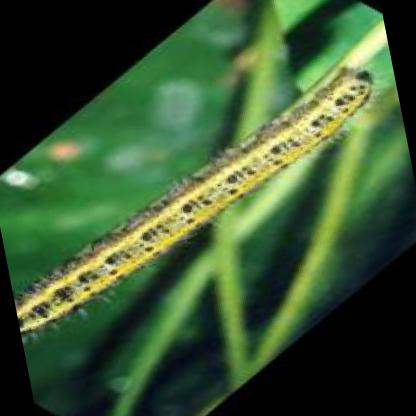pieris: (16, 65, 371, 332)
